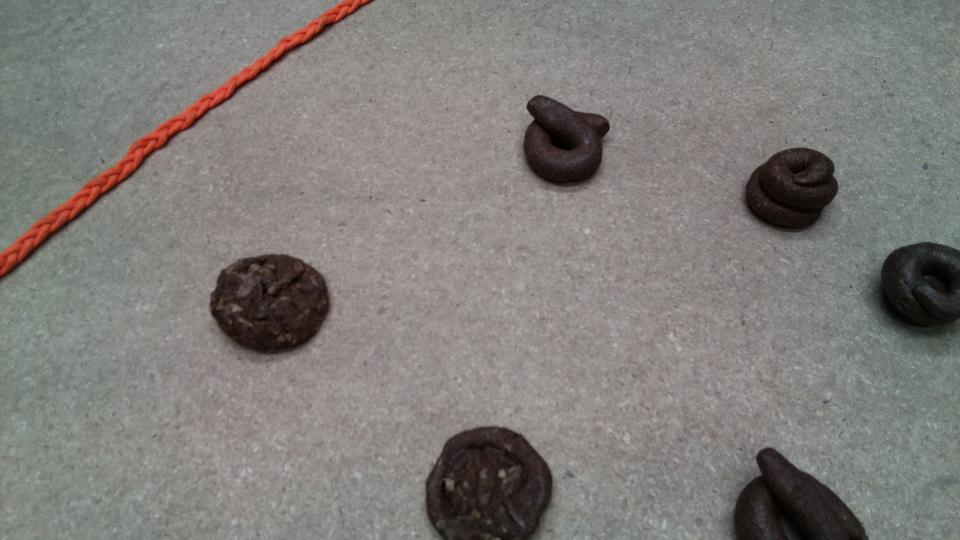poop: (423, 422, 556, 539), (206, 249, 332, 358), (732, 443, 872, 540), (741, 144, 843, 236), (521, 93, 613, 189), (878, 238, 960, 340)
rope: (1, 1, 361, 269)
